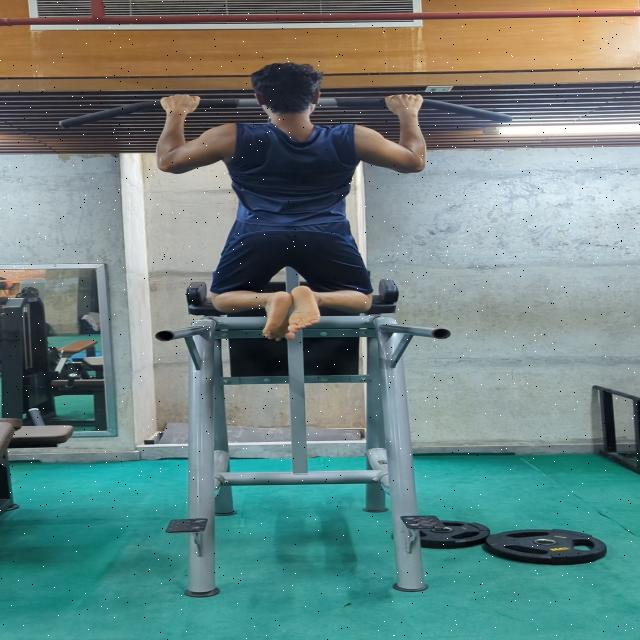Normal_PullUps: (138, 56, 453, 347)
